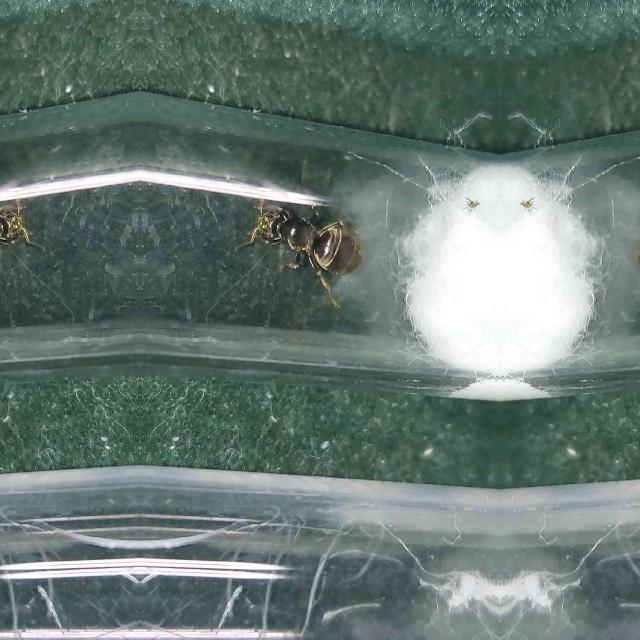Lasius: (224, 184, 364, 300), (0, 182, 54, 300)
